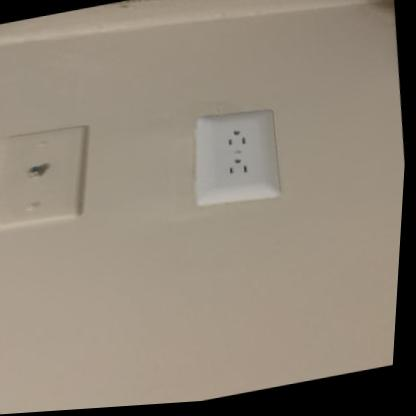OUTLET: (184, 103, 286, 213)
